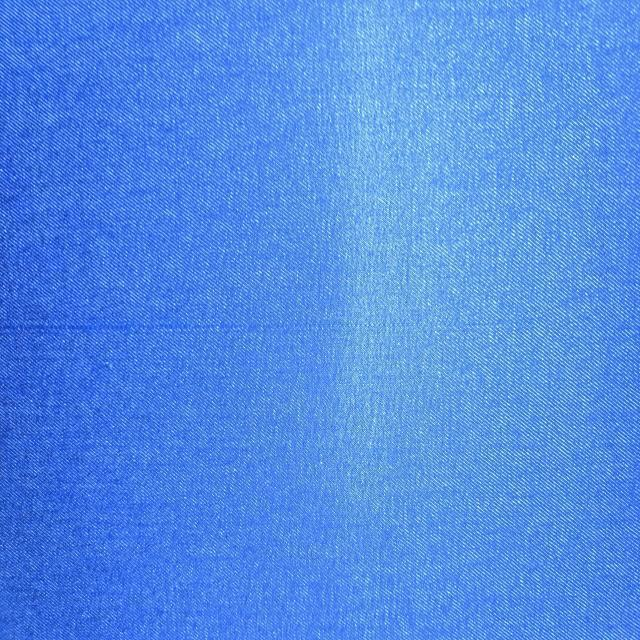Line: (0, 318, 640, 333)
